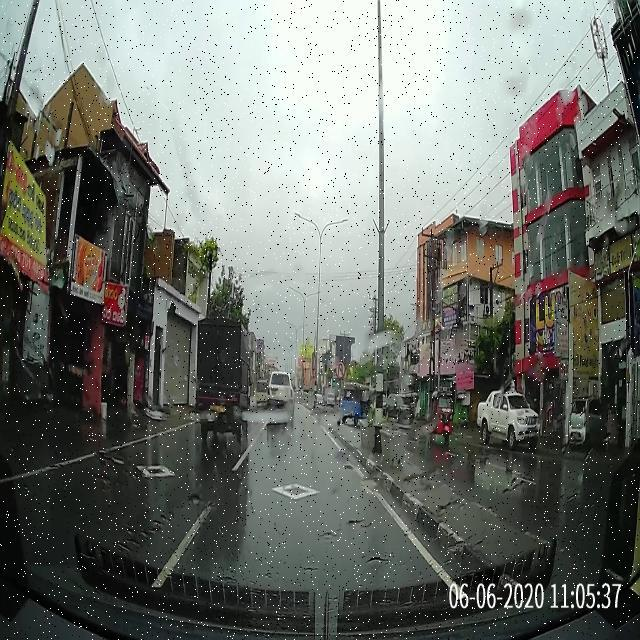diamond: (212, 476, 387, 505)
